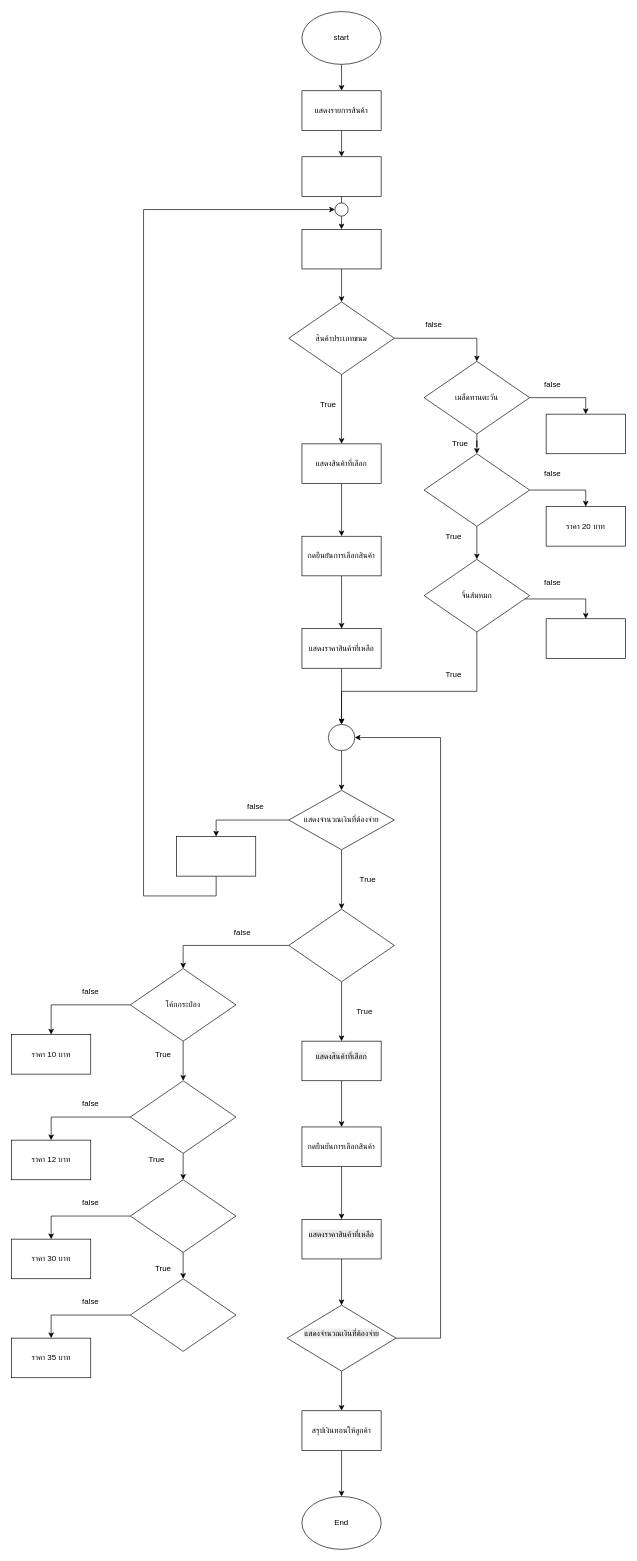
The diagram is 637 pixels wide and 1561 high, and some of its shapes have lost their labels. Each missing label, with the box of its shape:
ถั่วแปบ: (423, 453, 530, 526)
นํ้าเขียวกระป๋อง: (130, 1080, 236, 1153)
ราคา 13 บาท: (545, 413, 625, 454)
ราคา 15 บาท: (545, 618, 625, 658)
ลาเต้หวานเจี๊ยบ: (130, 1278, 236, 1351)
ลูกค้าเลือกสินค้า: (301, 229, 381, 269)
สินค้าประเภทนํ้า: (288, 908, 394, 982)
อเมริกาโน่: (130, 1179, 236, 1252)
เงินไม่พอในการเลือกสินค้า: (176, 836, 256, 876)
แสดงจำนวณสินค้าในตู้: (301, 156, 381, 196)
